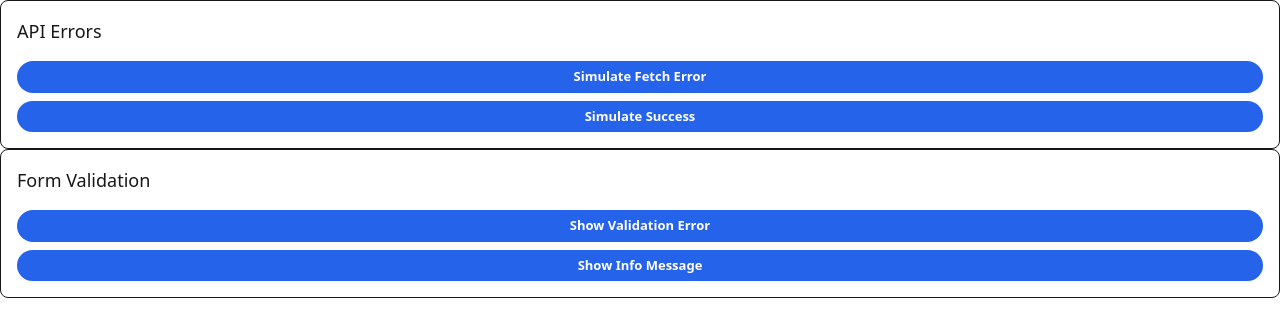
Test: Toast Demo Component › can close toast by clicking close button
Click the button "Simulate Fetch Error": (640, 77) [17,61,1263,92]
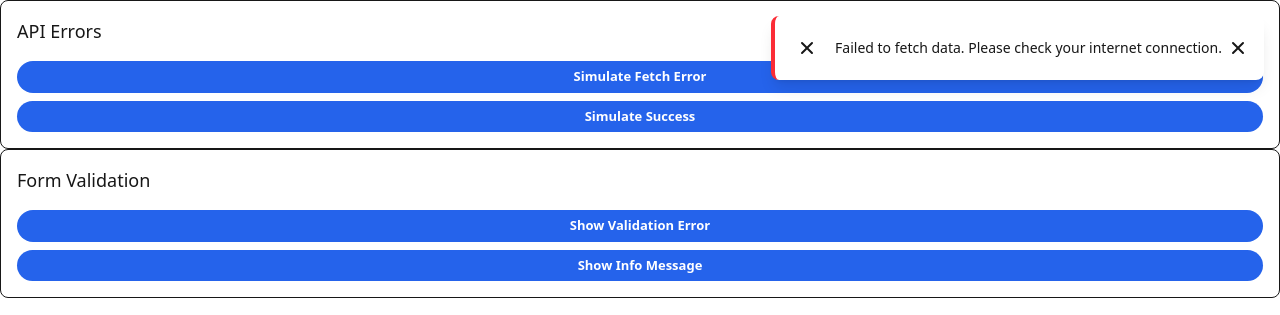
Check: the message "Failed to fetch data. Please check your internet connection." is shown, box [771,16,1264,80]
// Click close button
Click the button named "Close": (1238, 48) [1222,32,1254,64]
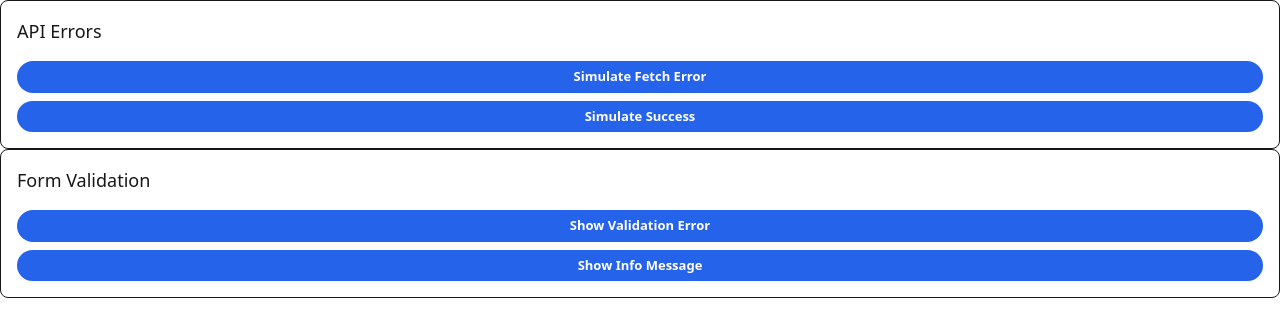
Check: the message "Failed to fetch data. Please check your internet connection." is gone
